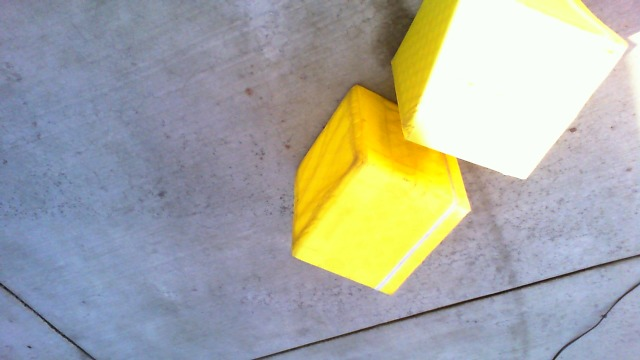cube: (290, 83, 472, 315), (394, 1, 628, 180)
